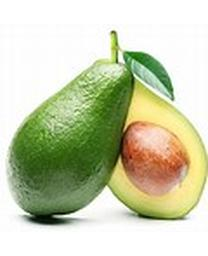avocado: (5, 57, 134, 218), (89, 60, 207, 220)
